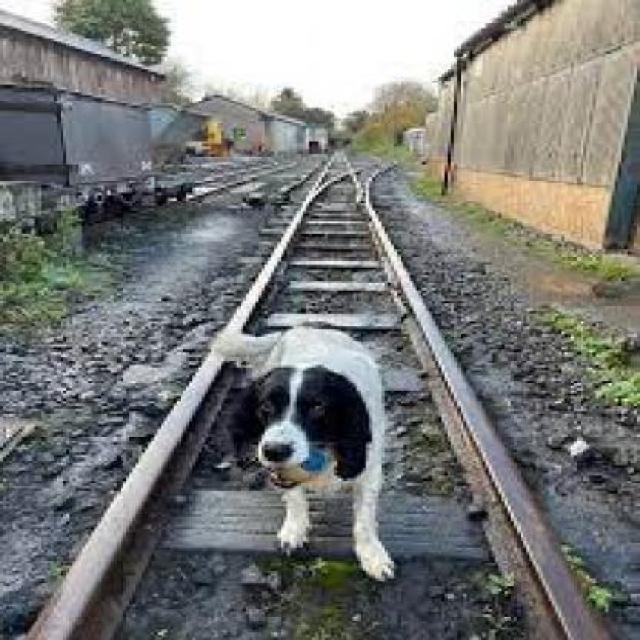danger: (195, 315, 408, 580)
rail: (6, 142, 632, 637)
